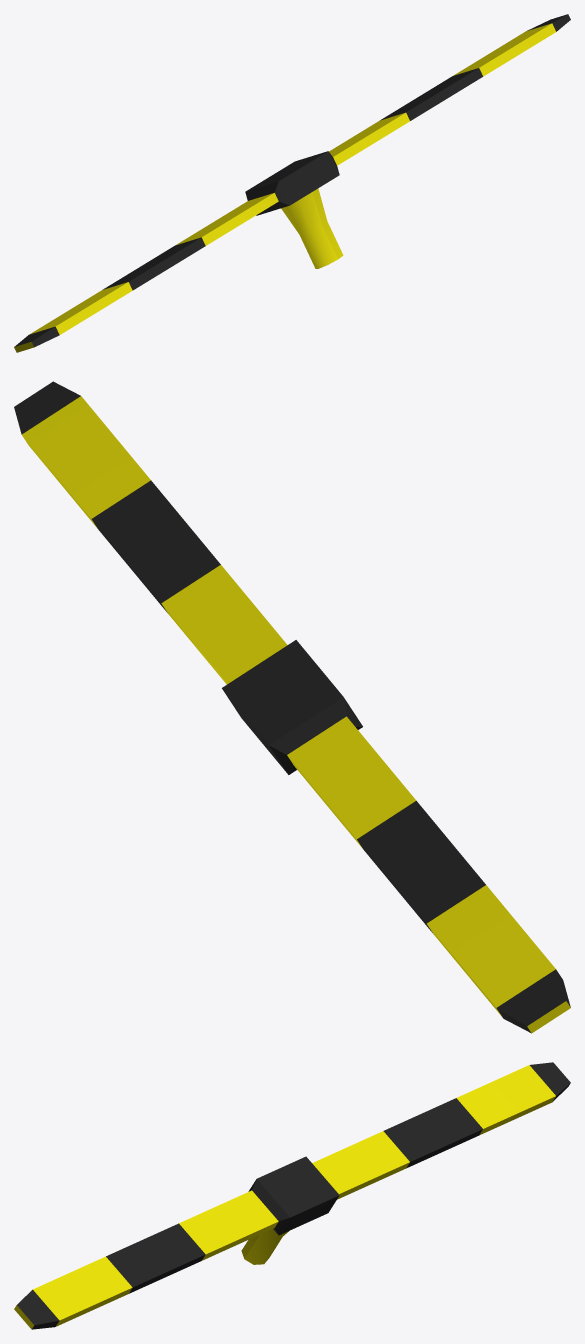
Rendered from drone_costum_Cube.fbx.
The picture shows the model from 3 angles, top to bottom: view 1: azimuth 90°, elevation 25°; view 2: azimuth 150°, elevation 25°; view 3: azimuth 270°, elevation 25°; orthographic projection. The views are drawn at different scales.
Parts seen in each view (by area): view 1: drone_costum_Cube; view 2: drone_costum_Cube; view 3: drone_costum_Cube.
Boxes of the visible parts, bbox=[...] form: drone_costum_Cube: bbox=[14, 14, 570, 352]; drone_costum_Cube: bbox=[14, 381, 570, 1033]; drone_costum_Cube: bbox=[14, 1062, 570, 1329].
Size of the model in its own units: 710 by 122 by 570.
